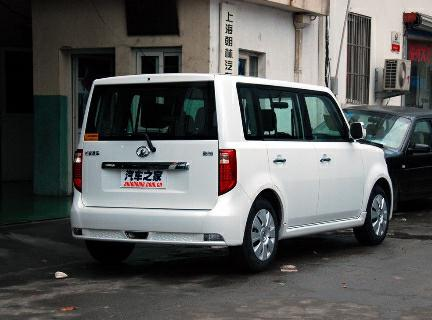长城-酷熊: (62, 69, 399, 263)
